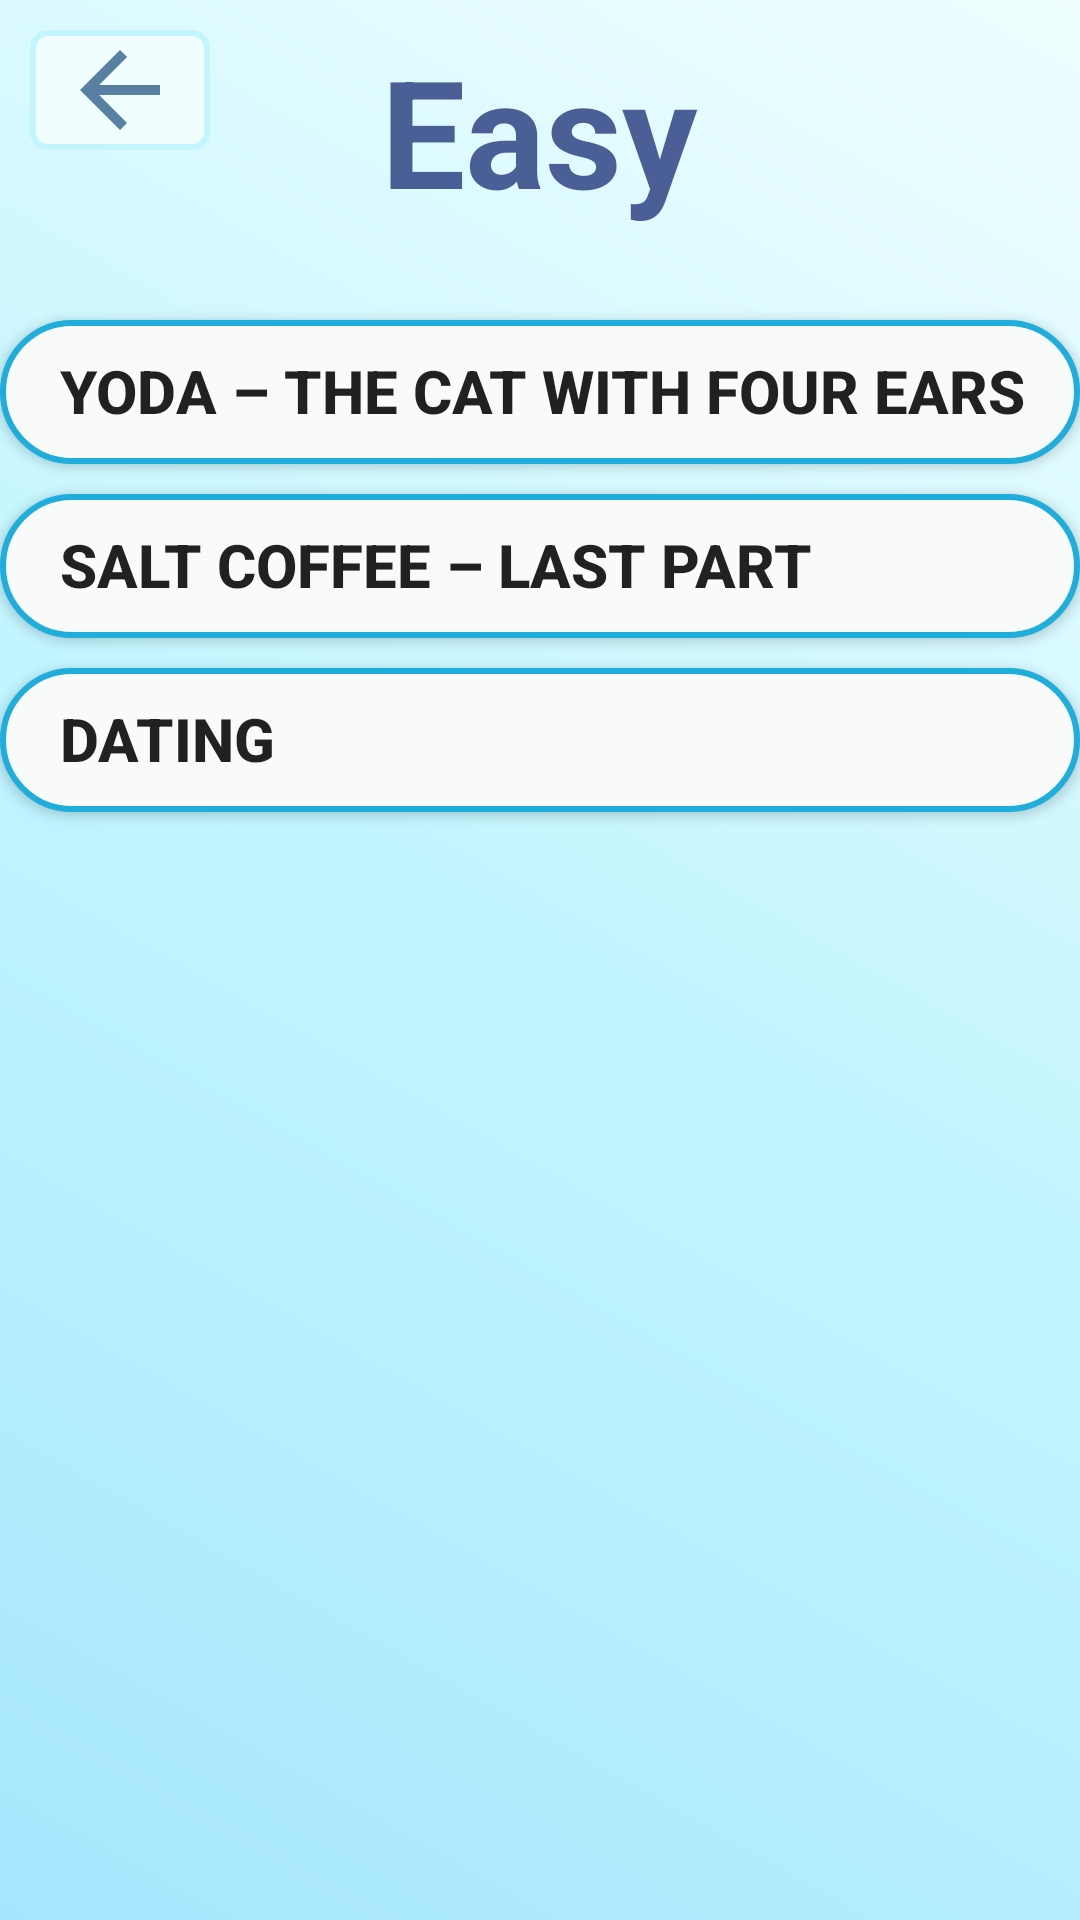

Named icons in this screenshot (1080x1920) and their bounding boxes, (left=x1, top=y1, right=x2, bottom=y2):
back: (left=30, top=30, right=210, bottom=150)
